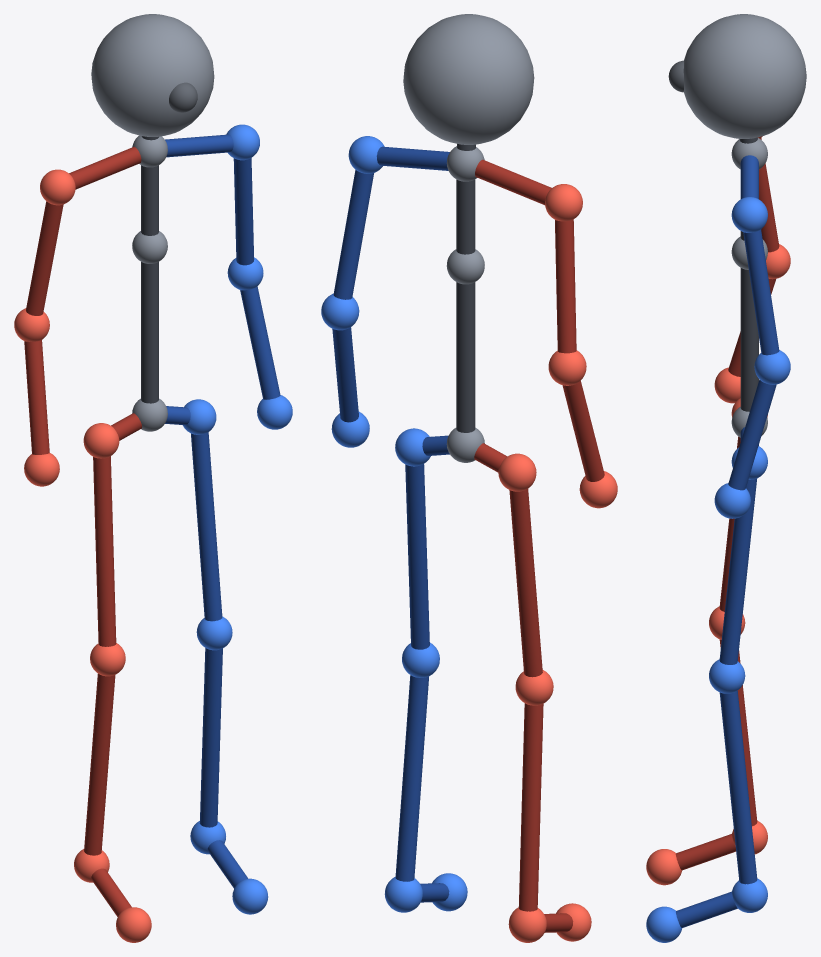
Rendered from random pose.glb.
3 views of the same model, side by side, from view 1: azimuth 30°, elevation 25°; view 2: azimuth 150°, elevation 25°; view 3: azimuth 270°, elevation 25° (orthographic). The views are drawn at different scales.
Parts seen in each view (by area): view 1: Head, Right thigh, Left thigh, Right shin, Left shin, Lower spine, Right forearm, Left forearm, Right upper arm, Left upper arm, Right collarbone, Upper spine (+21 smaller); view 2: Head, Right shin, Left shin, Right thigh, Left thigh, Lower spine, Right upper arm, Left upper arm, Right forearm, Left forearm, Right collarbone, Upper spine (+18 smaller); view 3: Head, Left shin, Left thigh, Left upper arm, Lower spine, Left forearm, Left foot, Right foot, Left shoulder, Left toe, Right toe, Left elbow (+17 smaller).
Part boxes in pixels (left/top/right/bottom): Head: left=91, top=14, right=214, bottom=136; Right thigh: left=93, top=456, right=116, bottom=646; Left thigh: left=191, top=432, right=222, bottom=621; Right shin: left=84, top=673, right=115, bottom=855; Left shin: left=199, top=648, right=222, bottom=827; Lower spine: left=141, top=262, right=158, bottom=403; Right forearm: left=24, top=340, right=49, bottom=454; Left forearm: left=240, top=286, right=280, bottom=399; Right upper arm: left=26, top=201, right=63, bottom=315; Left upper arm: left=233, top=158, right=254, bottom=265; Right collarbone: left=69, top=147, right=141, bottom=189; Upper spine: left=141, top=165, right=158, bottom=235; Head: left=403, top=14, right=534, bottom=144; Right shin: left=518, top=703, right=543, bottom=911; Left shin: left=395, top=675, right=428, bottom=881; Right thigh: left=509, top=488, right=542, bottom=677; Left thigh: left=405, top=464, right=429, bottom=649; Lower spine: left=456, top=282, right=475, bottom=432; Right upper arm: left=555, top=219, right=576, bottom=353; Left upper arm: left=333, top=170, right=373, bottom=299; Right forearm: left=562, top=380, right=604, bottom=481; Left forearm: left=332, top=327, right=358, bottom=422; Right collarbone: left=475, top=159, right=551, bottom=205; Upper spine: left=456, top=179, right=475, bottom=254; Head: left=683, top=14, right=806, bottom=138; Left shin: left=719, top=691, right=757, bottom=884; Left thigh: left=719, top=478, right=757, bottom=664; Left upper arm: left=743, top=229, right=779, bottom=355; Lower spine: left=740, top=268, right=758, bottom=411; Left forearm: left=728, top=379, right=776, bottom=490; Left foot: left=676, top=891, right=737, bottom=927; Right foot: left=675, top=834, right=735, bottom=870; Left shoulder: left=731, top=197, right=767, bottom=232; Left toe: left=646, top=906, right=681, bottom=942; Right toe: left=646, top=849, right=682, bottom=885; Left elbow: left=754, top=350, right=790, bottom=384.
Bounding box in the file's own units: 0.544 × 1.73 × 0.282.
